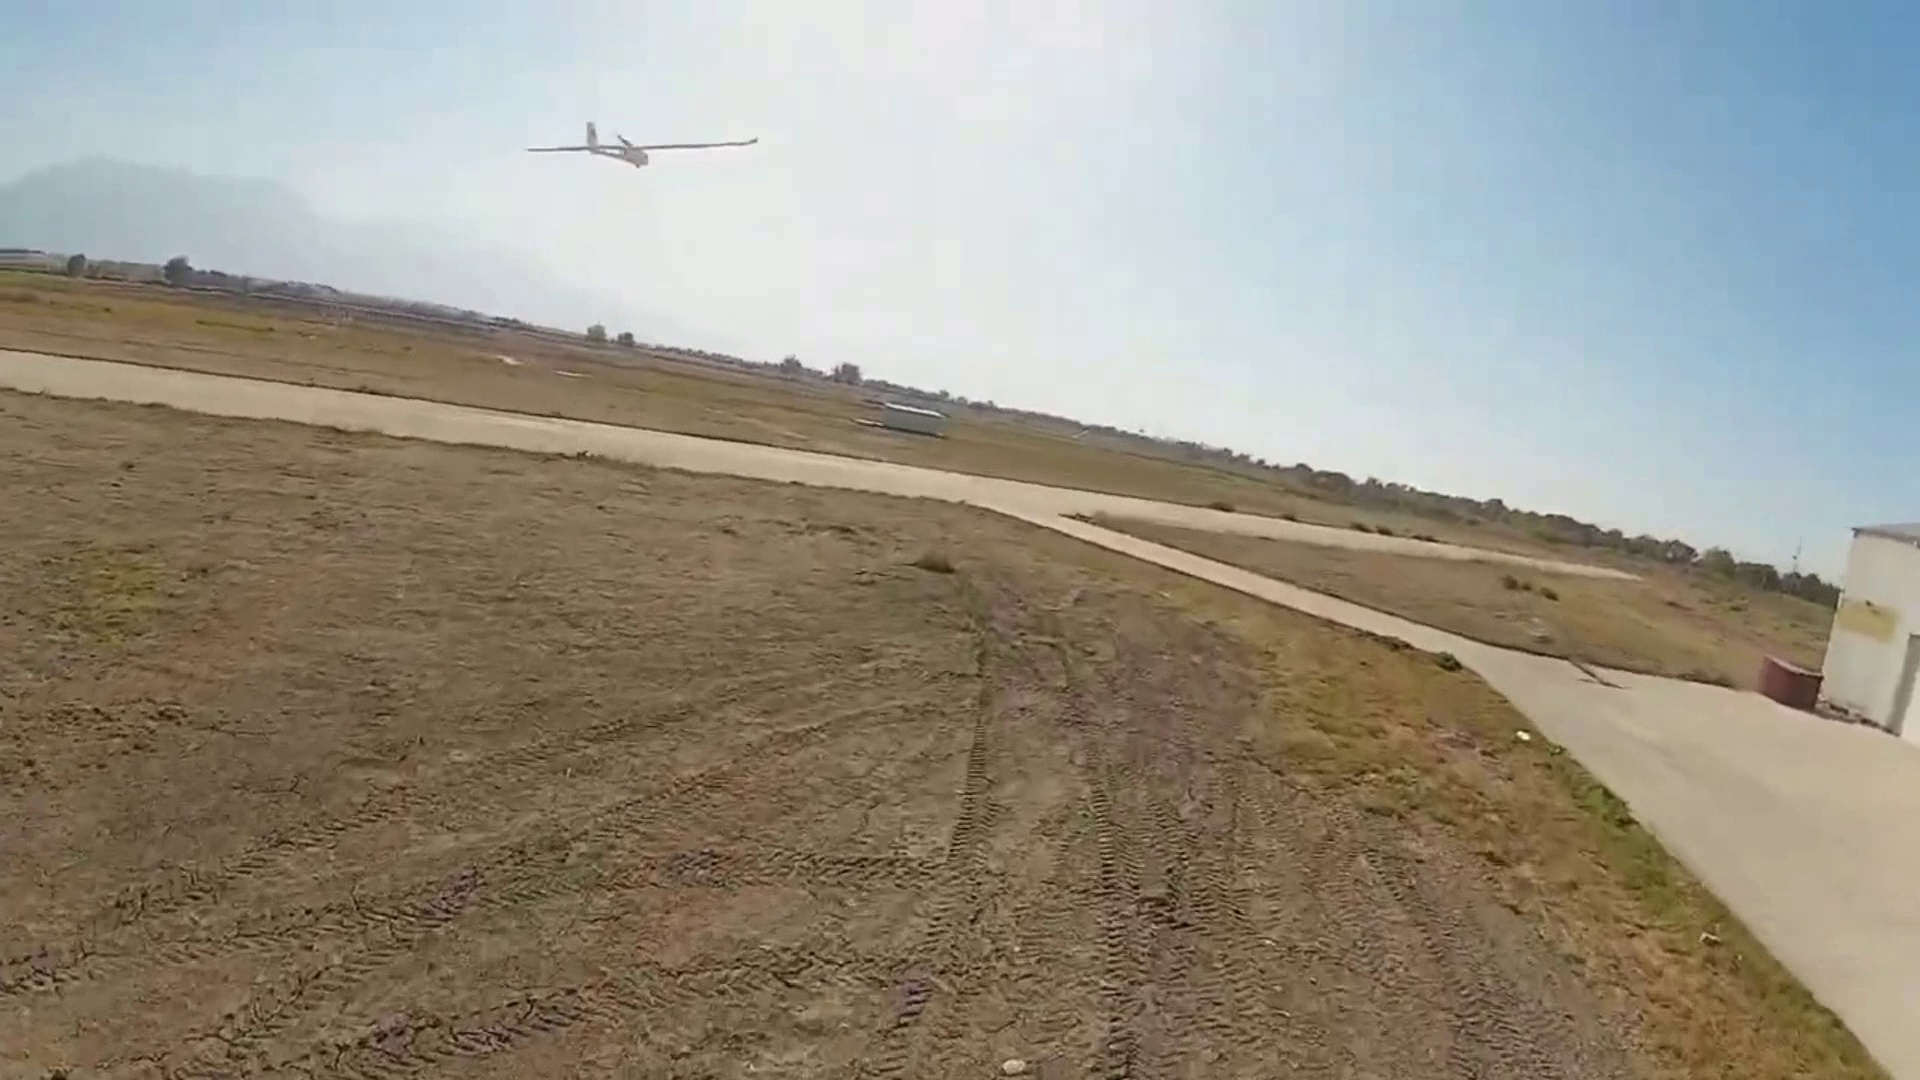airplane: (522, 116, 762, 171)
